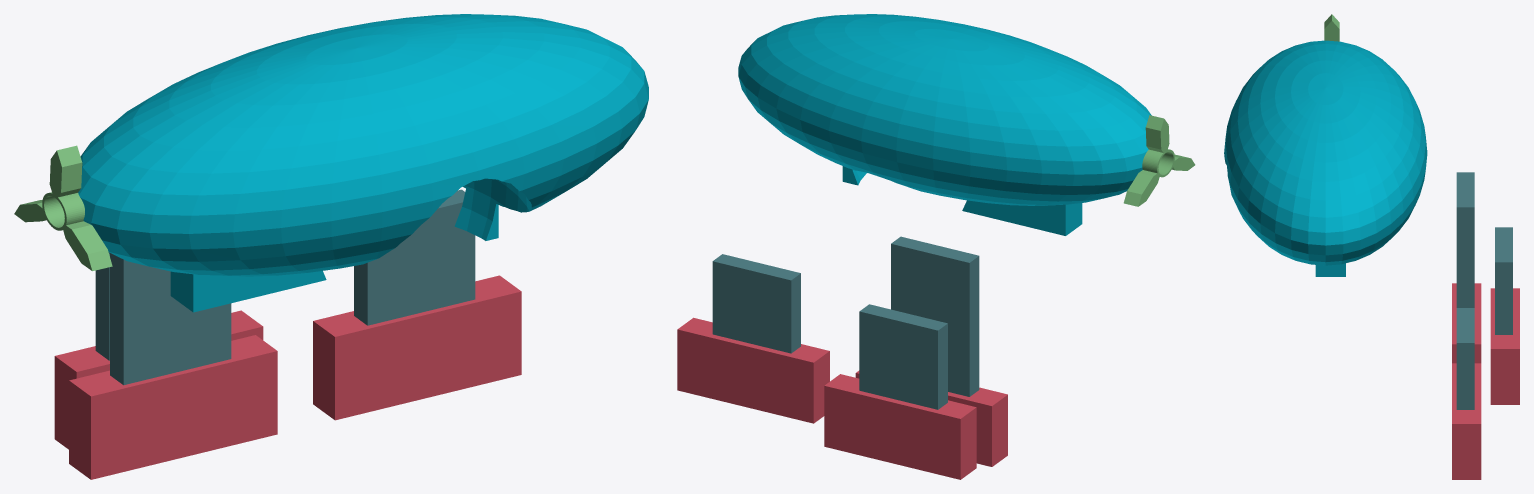
The model's file is blimp.glb.
3 views of the same model, side by side, from view 1: azimuth 30°, elevation 25°; view 2: azimuth 150°, elevation 25°; view 3: azimuth 270°, elevation 25° (orthographic). The views are drawn at different scales.
Parts seen in each view (by area): view 1: Mesh_Mesh_head_geo.001_lambert2SG.001; view 2: Mesh_Mesh_head_geo.001_lambert2SG.001; view 3: Mesh_Mesh_head_geo.001_lambert2SG.001.
Boxes of the visible parts, left/top/right/bottom form: Mesh_Mesh_head_geo.001_lambert2SG.001: left=14, top=14, right=648, bottom=479; Mesh_Mesh_head_geo.001_lambert2SG.001: left=677, top=14, right=1195, bottom=479; Mesh_Mesh_head_geo.001_lambert2SG.001: left=1224, top=14, right=1519, bottom=479.
Size of the model in its own units: 73 by 55 by 48.
